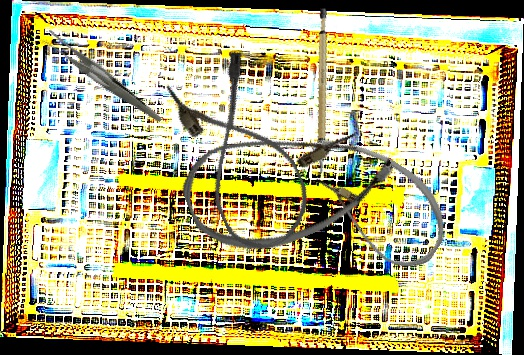Cannula: (171, 89, 405, 273), (162, 47, 323, 262), (283, 120, 465, 281)
Dressing Forceps: (39, 6, 163, 151)
Scalpel Handle: (292, 7, 349, 175)
